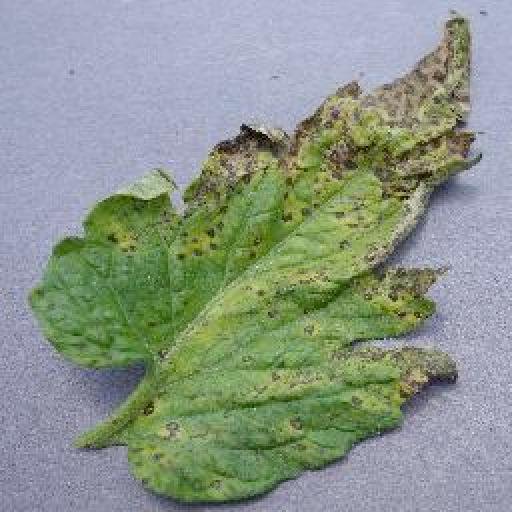disease_tomato: (27, 16, 484, 502)
